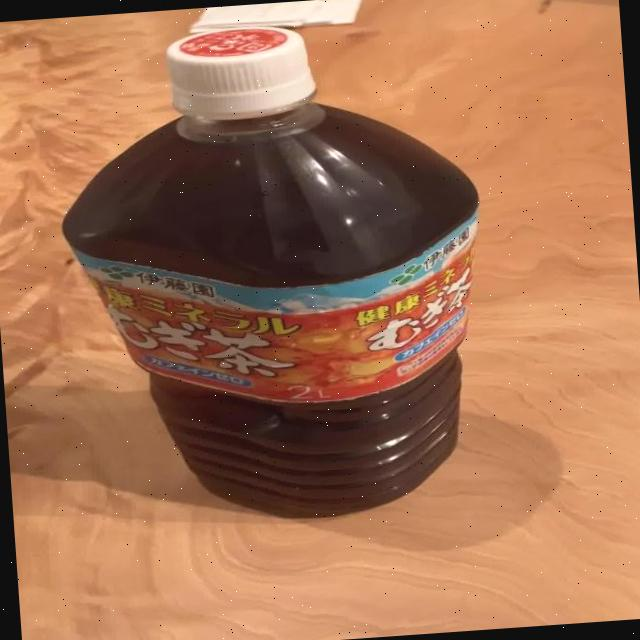bottle: (45, 9, 502, 535)
cap: (152, 22, 328, 130)
label: (76, 220, 507, 394)
